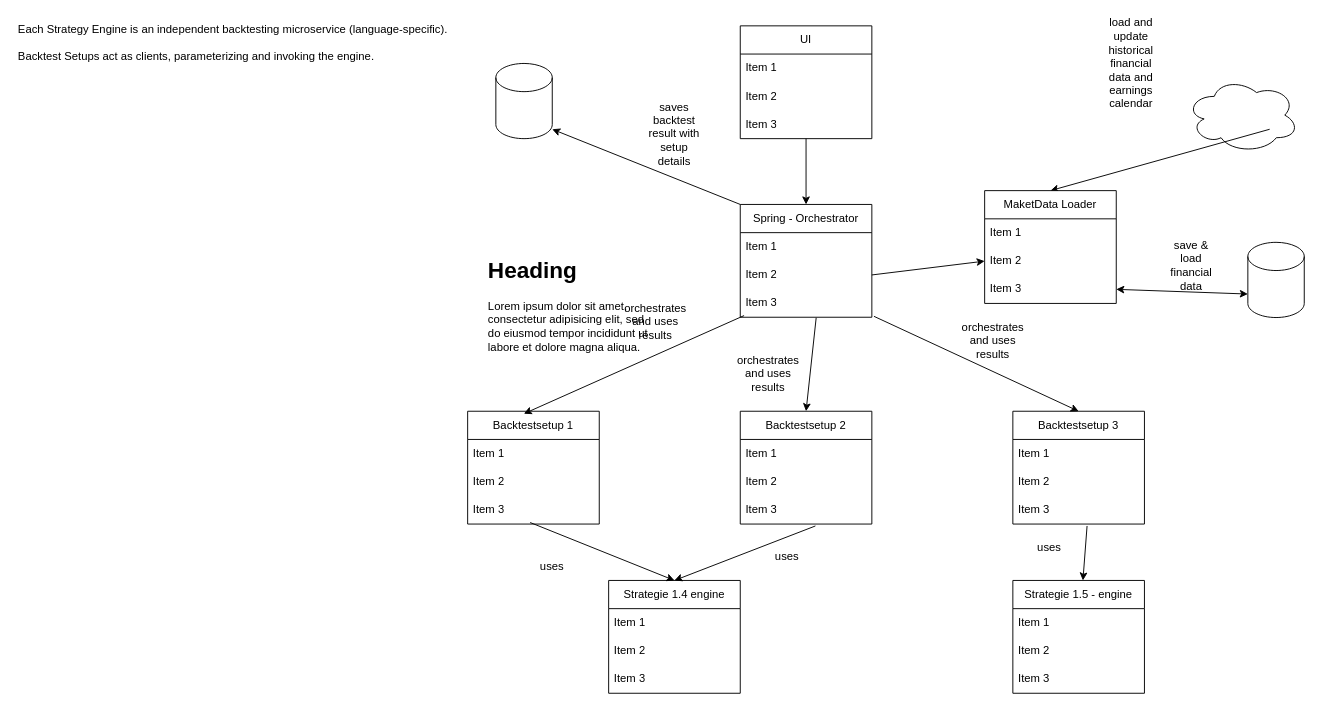
The diagram is 1323 pixels wide and 710 high, and some of its shapes have lost their labels. The shapes that lost their labels are listed below. From the top down, each one's centre as x and y in pixels, then its label:
point 523,101: Backtest Result DB
point 1242,115: yfinance api
point 1275,279: MarketData DB
